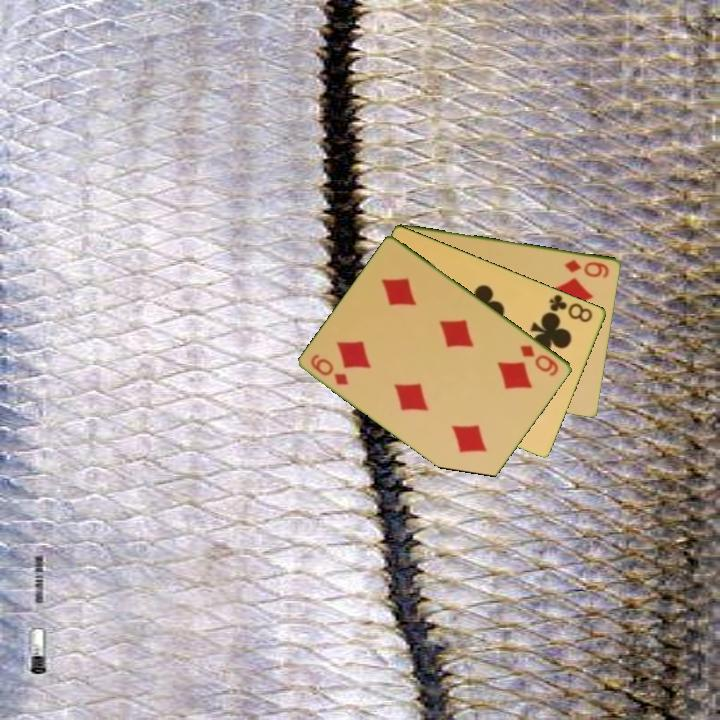6d: (517, 341, 562, 379), (307, 350, 352, 388), (562, 256, 612, 280)
8c: (546, 291, 596, 325)
